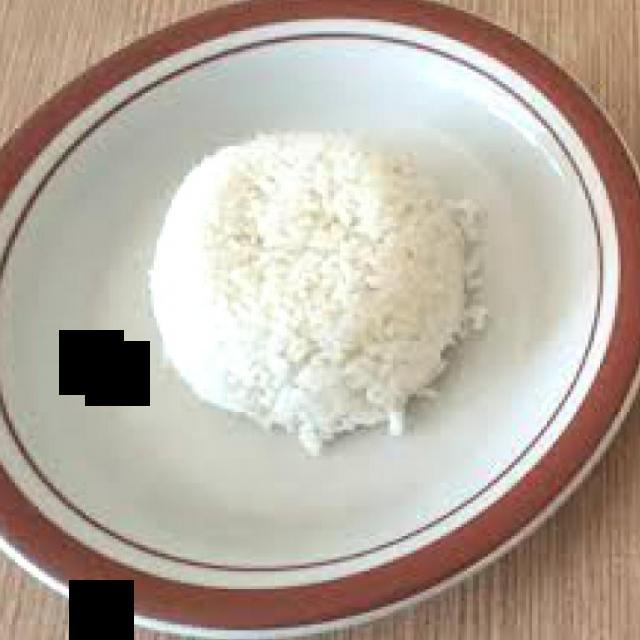rice: (149, 127, 464, 453)
